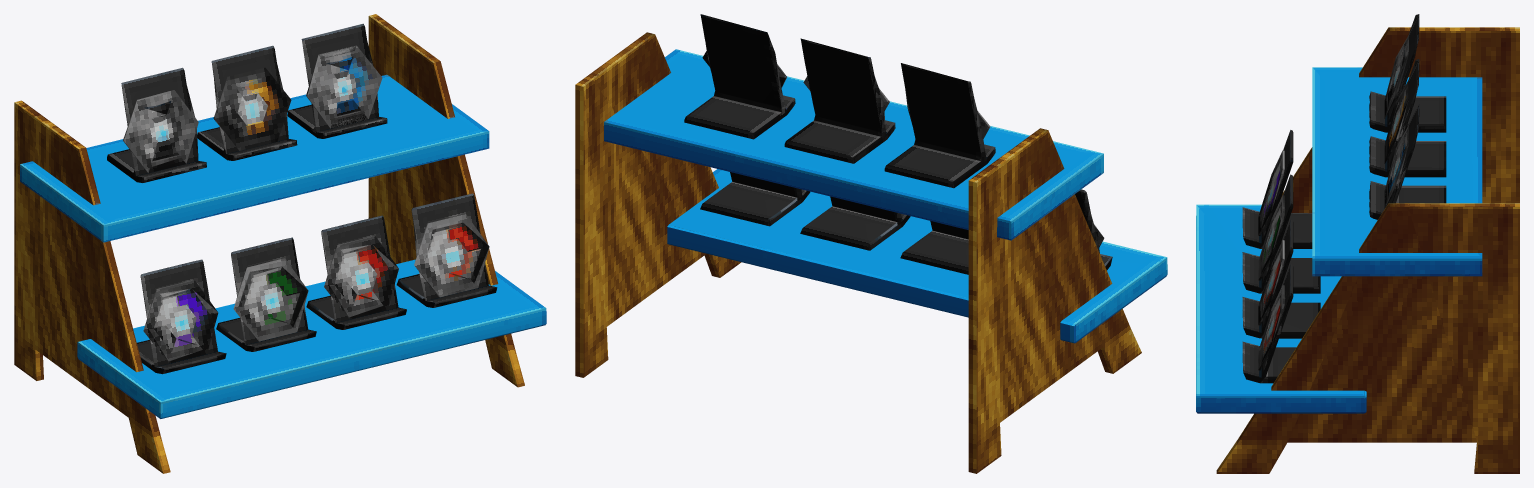
File: room_figshelf.glb
3 renders of one model, left to right at view 1: azimuth 30°, elevation 25°; view 2: azimuth 150°, elevation 25°; view 3: azimuth 270°, elevation 25°, orthographic. The views are drawn at different scales.
Parts seen in each view (by area): view 1: mesh; view 2: mesh; view 3: mesh.
Part boxes in pixels (<box>): mesh: <box>14,14,546,473</box>; mesh: <box>575,14,1167,473</box>; mesh: <box>1196,14,1519,473</box>.
Bounding box in the file's own units: 1.01 × 0.76 × 0.7191.
1 material, 1 textured.
